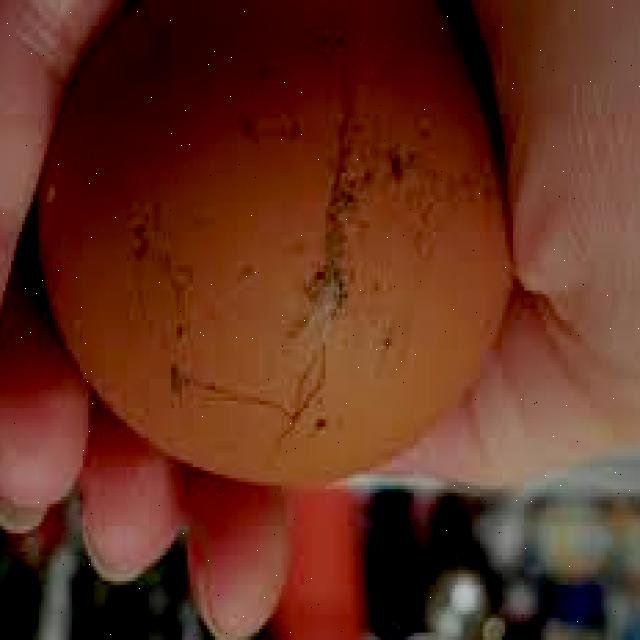Dirt Stained Egg: (11, 0, 549, 515)
